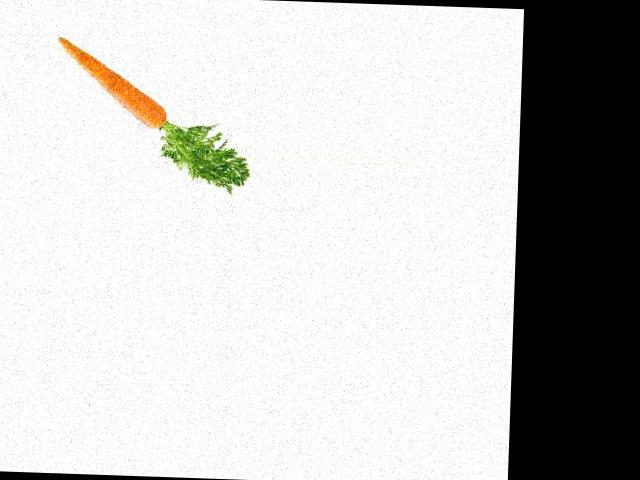carrot: (50, 35, 176, 132)
